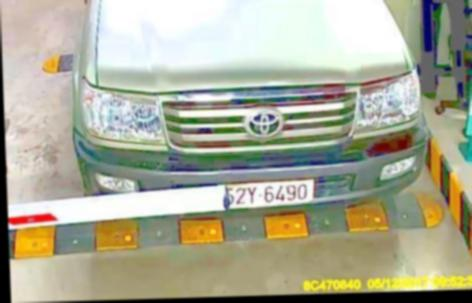License_Plate: (215, 179, 320, 212)
